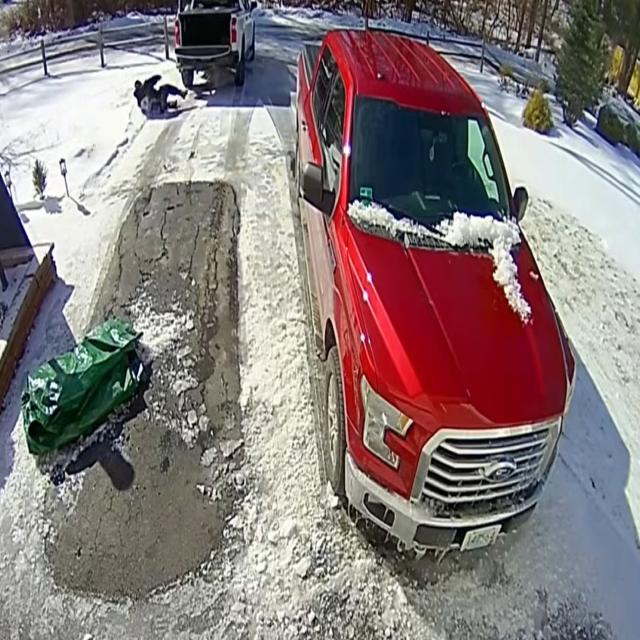fallen: (134, 74, 187, 117)
